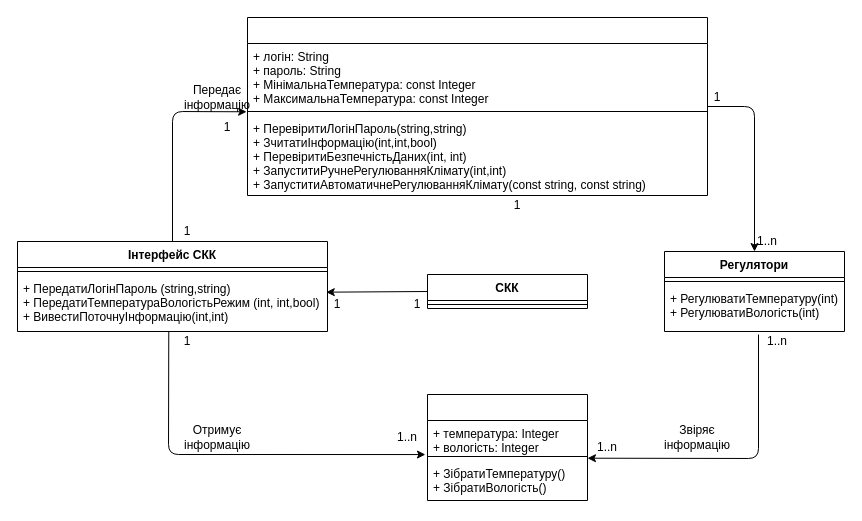
Some shapes in this 862 by 521 pixel diagram are drawn without their labels. The box of each missing label's shape, as (x1, y1, x2, y2) in pixels:
Датчики СКК: (426, 394, 588, 500)
Мікроконтролер СКК: (246, 16, 708, 196)
